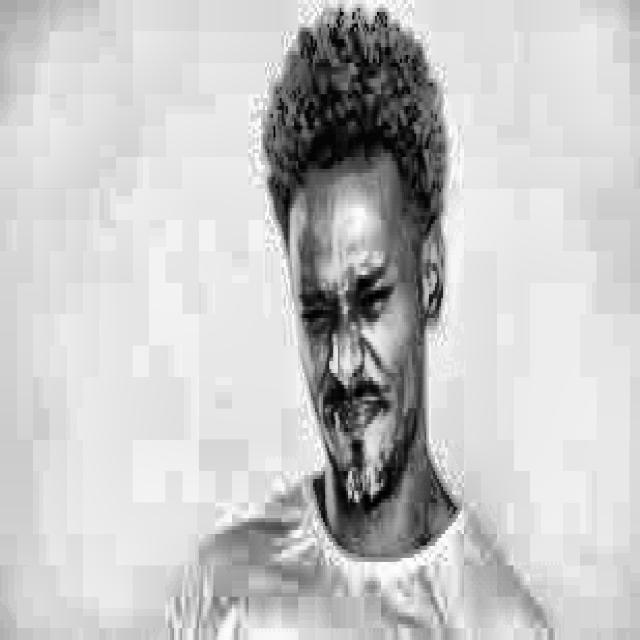disgust: (253, 15, 453, 514)
